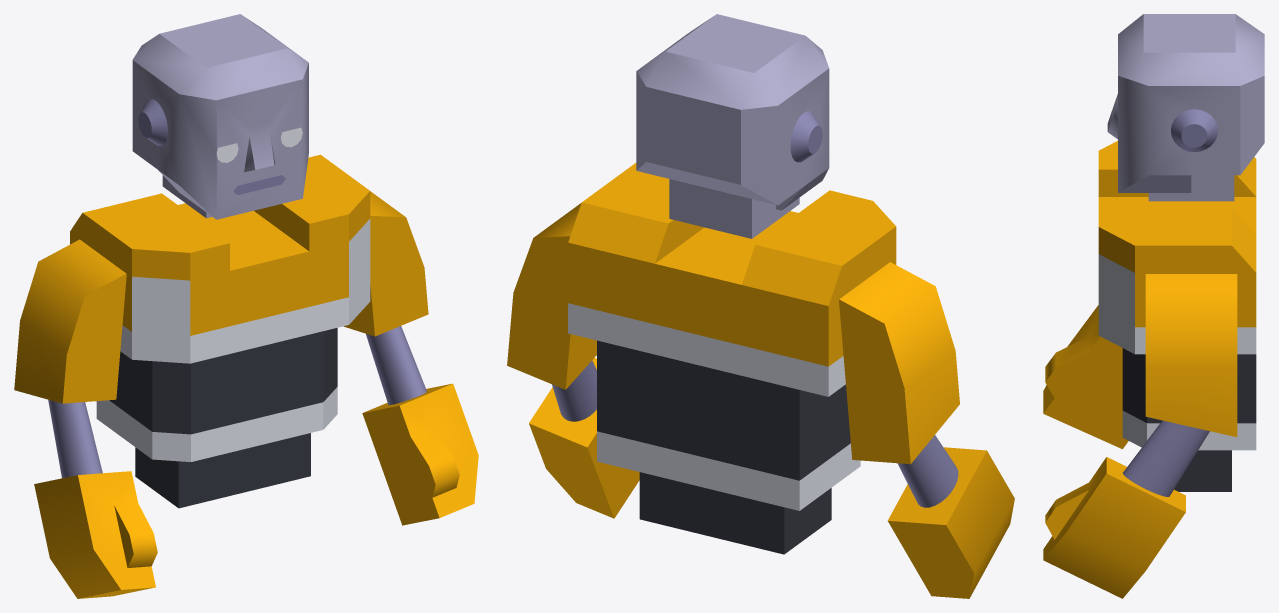
Rendered from PlayerCharacter.fbx.
The picture shows the model from 3 angles, left to right: view 1: azimuth 30°, elevation 25°; view 2: azimuth 150°, elevation 25°; view 3: azimuth 270°, elevation 25°; orthographic projection. The views are drawn at different scales.
Parts seen in each view (by area): view 1: chest_body, arm_robot% (×2), head_robot%; view 2: chest_body, arm_robot% (×2), head_robot%; view 3: arm_robot% (×2), head_robot%, chest_body.
Boxes of the visible parts, x1,y1,x2,y2 form: chest_body: [70, 154, 370, 508]; arm_robot% (×2): [14, 191, 478, 598]; head_robot%: [132, 14, 308, 219]; chest_body: [568, 163, 896, 554]; arm_robot% (×2): [507, 203, 1014, 598]; head_robot%: [636, 14, 829, 238]; arm_robot% (×2): [1043, 274, 1237, 598]; head_robot%: [1107, 14, 1264, 201]; chest_body: [1098, 141, 1256, 491].
Bounding box in the file's own units: 7.25 × 8.76 × 3.62.
